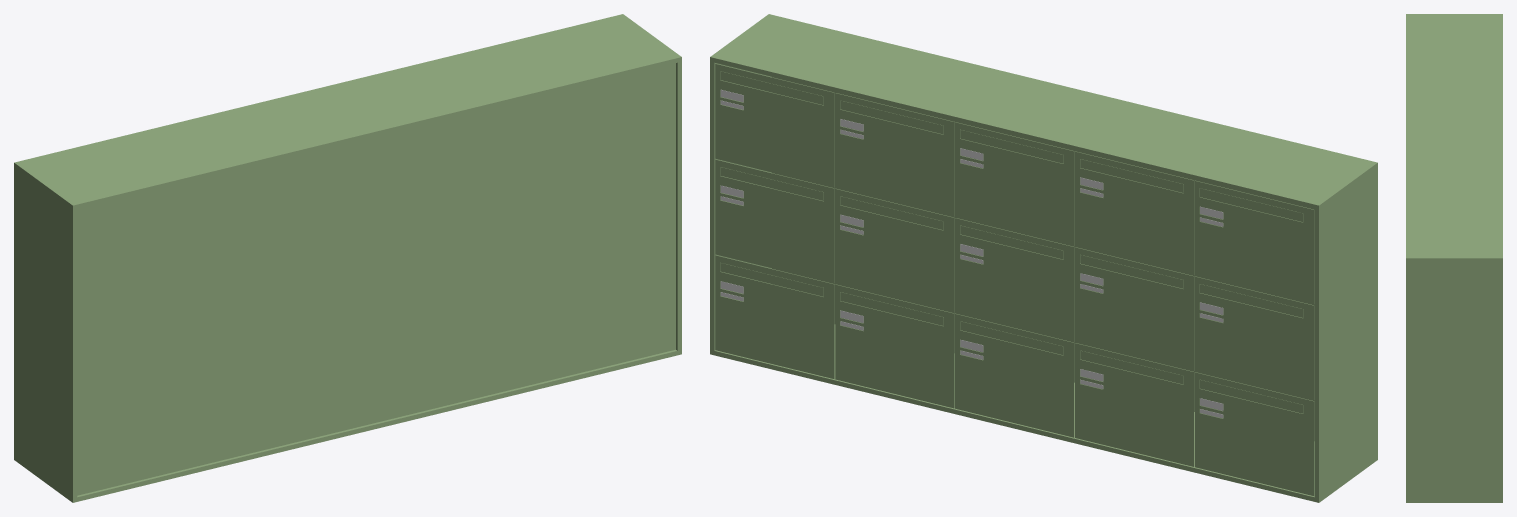
File: test_generate_mailbox_5x3.glb
3 views of the same model, side by side, from view 1: azimuth 30°, elevation 25°; view 2: azimuth 150°, elevation 25°; view 3: azimuth 270°, elevation 25° (orthographic). The views are drawn at different scales.
Parts seen in each view (by area): view 1: 2ef1maBPX92wLfzc3FfO3y, 09N_hEWML68AKOrpKfkDpp; view 2: 09N_hEWML68AKOrpKfkDpp, 1pJfE6GTX1YBj9$C_wCRxj, 11uMXIq196zgayzfhSXcrx, 06VCI_OwjCeA0hFF35uztE, 0hvhsjCLX6TBOkVvbn40yN, 3zaCDnScf7t8oUj5cS7AVr, 0SODPBgF9DH9eQOCNVuQIm, 0E4iR0bh91KPXAZW3cTHeP, 1q$JRhPEr0CQeg$mNUhQv1, 117xdDqDn60A6MhovsWa86, 3GFQG$NtbB2P5$jwpyay20, 0CYb85rU537xmz4HNxC156 (+20 smaller); view 3: 09N_hEWML68AKOrpKfkDpp.
Boxes of the visible parts, x1,y1,x2,y2 form: 2ef1maBPX92wLfzc3FfO3y: (77,63,675,495); 09N_hEWML68AKOrpKfkDpp: (14,14,681,502); 09N_hEWML68AKOrpKfkDpp: (710,14,1377,502); 1pJfE6GTX1YBj9$C_wCRxj: (1075,343,1194,466); 11uMXIq196zgayzfhSXcrx: (835,284,954,408); 06VCI_OwjCeA0hFF35uztE: (1075,247,1194,370); 0hvhsjCLX6TBOkVvbn40yN: (1075,151,1194,275); 3zaCDnScf7t8oUj5cS7AVr: (835,188,954,312); 0SODPBgF9DH9eQOCNVuQIm: (835,93,954,216); 0E4iR0bh91KPXAZW3cTHeP: (955,218,1074,341); 1q$JRhPEr0CQeg$mNUhQv1: (955,122,1074,245); 117xdDqDn60A6MhovsWa86: (955,313,1074,437); 3GFQG$NtbB2P5$jwpyay20: (715,159,834,283); 0CYb85rU537xmz4HNxC156: (715,63,834,187); 09N_hEWML68AKOrpKfkDpp: (1406,14,1502,502).
Size of the model in its own units: 2.09 by 0.9765 by 0.35.
